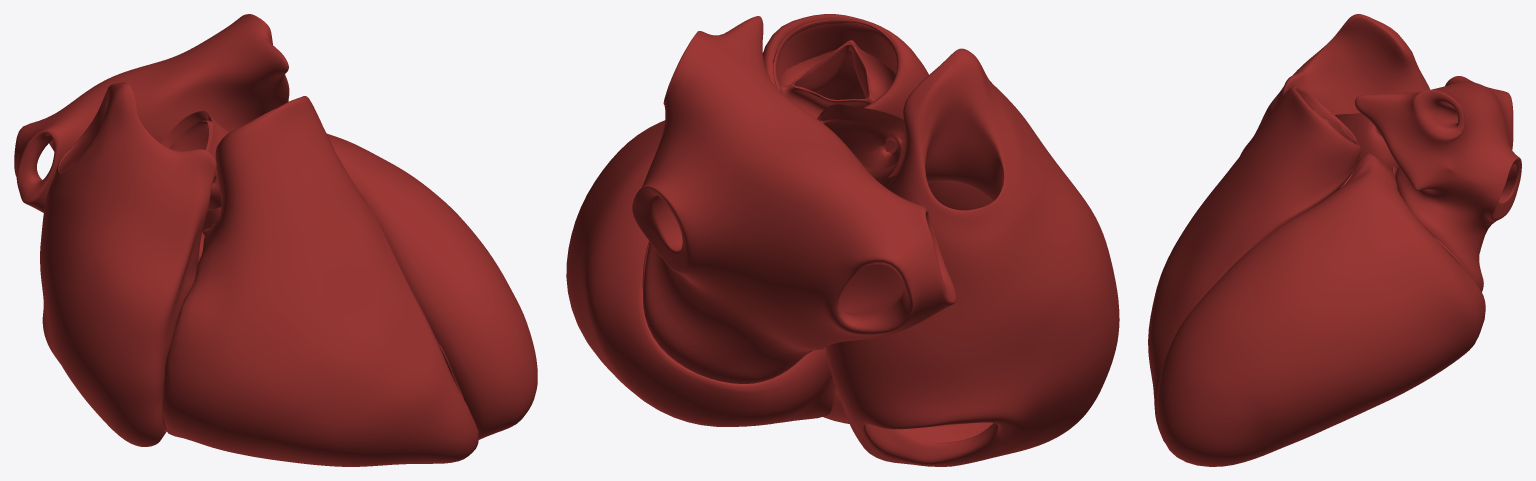
File: VH_M_Heart.obj
3 renders of one model, left to right at view 1: azimuth 30°, elevation 25°; view 2: azimuth 150°, elevation 25°; view 3: azimuth 270°, elevation 25°, orthographic. The views are drawn at different scales.
Parts seen in each view (by area): view 1: VH_M_heart_right_ventricle, VH_M_right_cardiac_atrium, VH_M_heart_left_ventricle, VH_M_left_cardiac_atrium, VH_M_aortic_valve; view 2: VH_M_left_cardiac_atrium, VH_M_right_cardiac_atrium, VH_M_heart_left_ventricle, VH_M_heart_right_ventricle, VH_M_pulmonary_valve, VH_M_aortic_valve; view 3: VH_M_heart_left_ventricle, VH_M_heart_right_ventricle, VH_M_left_cardiac_atrium, VH_M_right_cardiac_atrium, VH_M_aortic_valve.
Part boxes in pixels (bbox=[...]): VH_M_heart_right_ventricle: bbox=[162, 96, 478, 466]; VH_M_right_cardiac_atrium: bbox=[40, 82, 216, 446]; VH_M_heart_left_ventricle: bbox=[202, 133, 537, 439]; VH_M_left_cardiac_atrium: bbox=[14, 14, 289, 212]; VH_M_aortic_valve: bbox=[161, 111, 229, 210]; VH_M_left_cardiac_atrium: bbox=[632, 16, 956, 383]; VH_M_right_cardiac_atrium: bbox=[826, 48, 1119, 466]; VH_M_heart_left_ventricle: bbox=[566, 120, 833, 426]; VH_M_heart_right_ventricle: bbox=[763, 14, 928, 423]; VH_M_pulmonary_valve: bbox=[773, 19, 895, 118]; VH_M_aortic_valve: bbox=[817, 104, 905, 188]; VH_M_heart_left_ventricle: bbox=[1156, 153, 1485, 466]; VH_M_heart_right_ventricle: bbox=[1148, 86, 1360, 442]; VH_M_left_cardiac_atrium: bbox=[1355, 76, 1521, 291]; VH_M_right_cardiac_atrium: bbox=[1240, 14, 1429, 155]; VH_M_aortic_valve: bbox=[1334, 112, 1398, 169].
Bounding box in the file's own units: 0.1244 × 0.1054 × 0.1052.
